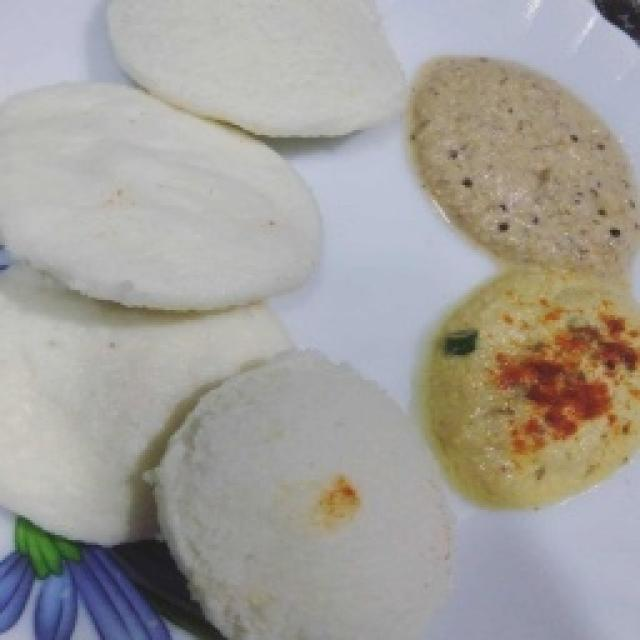idli: (30, 42, 401, 640)
